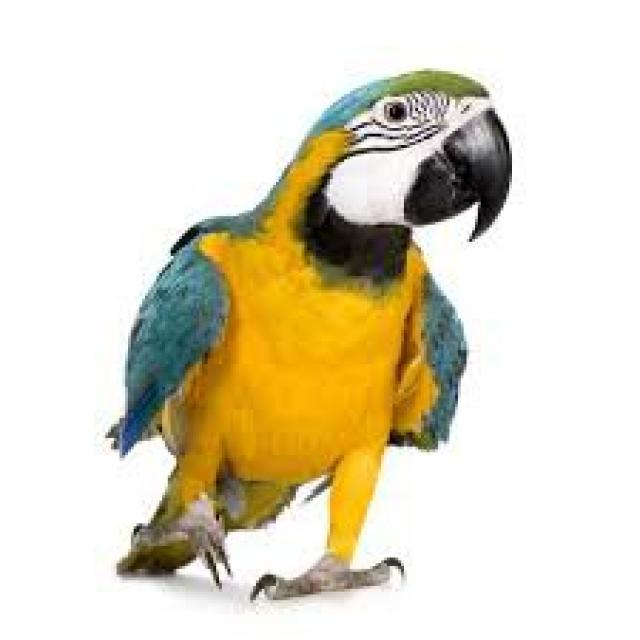parrot: (111, 68, 512, 597)
